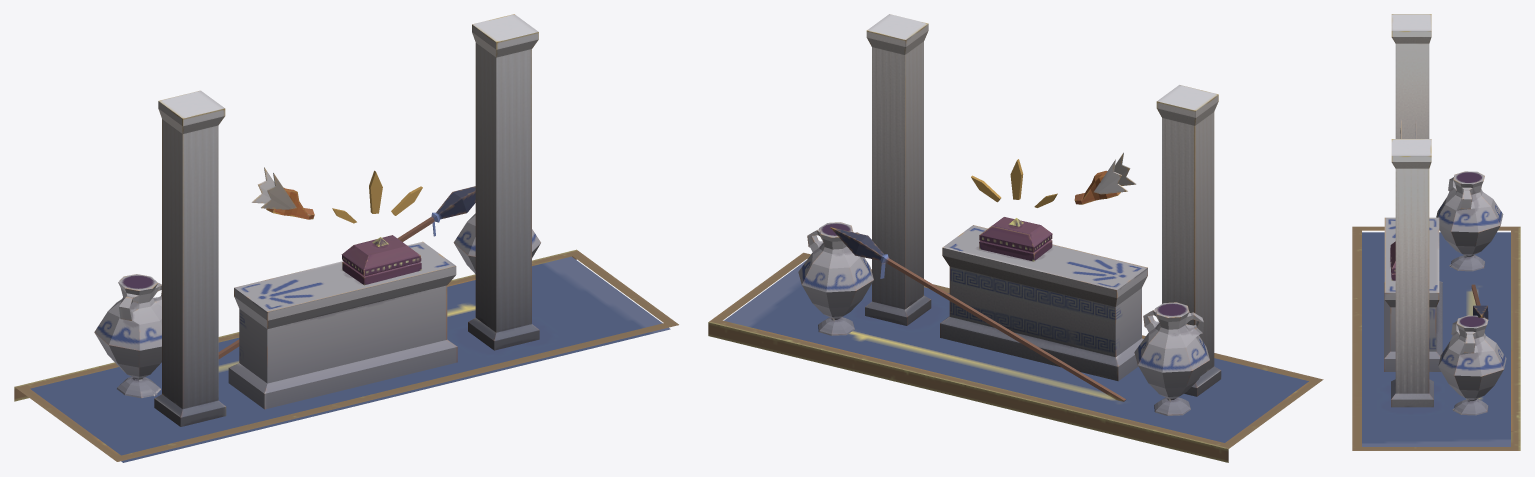
Rendered from greek.glb.
3 renders of one model, left to right at view 1: azimuth 30°, elevation 25°; view 2: azimuth 150°, elevation 25°; view 3: azimuth 270°, elevation 25°, orthographic. The views are drawn at different scales.
Visible parts, largest first — view 1: greek; view 2: greek; view 3: greek.
Part boxes in pixels (left/top/right/bottom): greek: left=14, top=14, right=678, bottom=462; greek: left=708, top=14, right=1323, bottom=462; greek: left=1352, top=14, right=1520, bottom=450.
Bounding box in the file's own units: 6.31 × 3.42 × 2.
2 materials, 2 textured.
